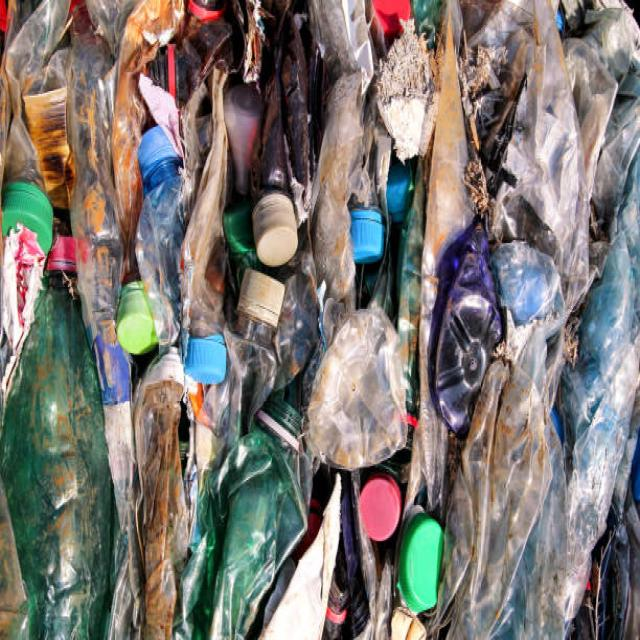cardboard: (14, 47, 604, 609)
